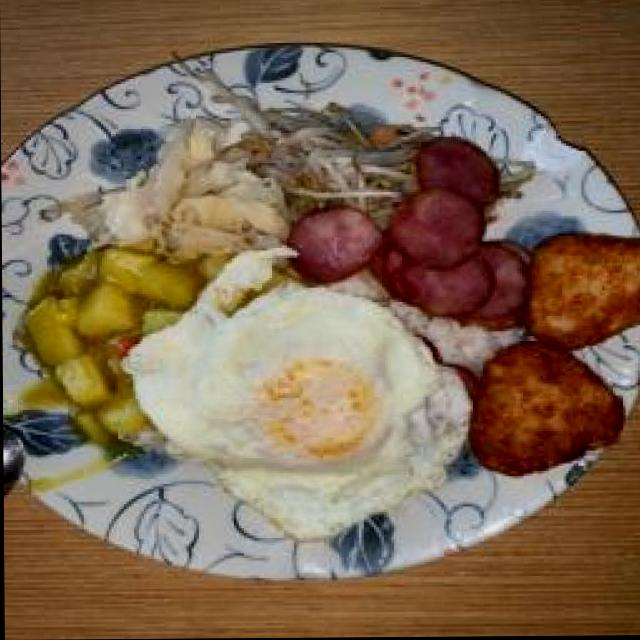chinese_cabbage: (106, 123, 270, 269)
chinese_sausage: (299, 140, 535, 324)
curry: (21, 247, 148, 448)
fried_eggs: (137, 267, 463, 534)
mung_bean_sprouts: (259, 113, 412, 205)
rice: (427, 320, 502, 374)
triangle_hash_brown: (473, 231, 640, 480)
